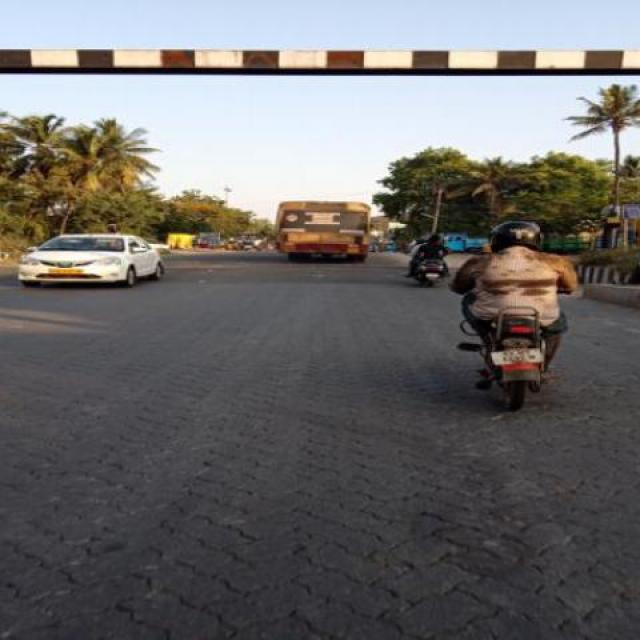Unmarked Bump: (175, 260, 412, 268)
